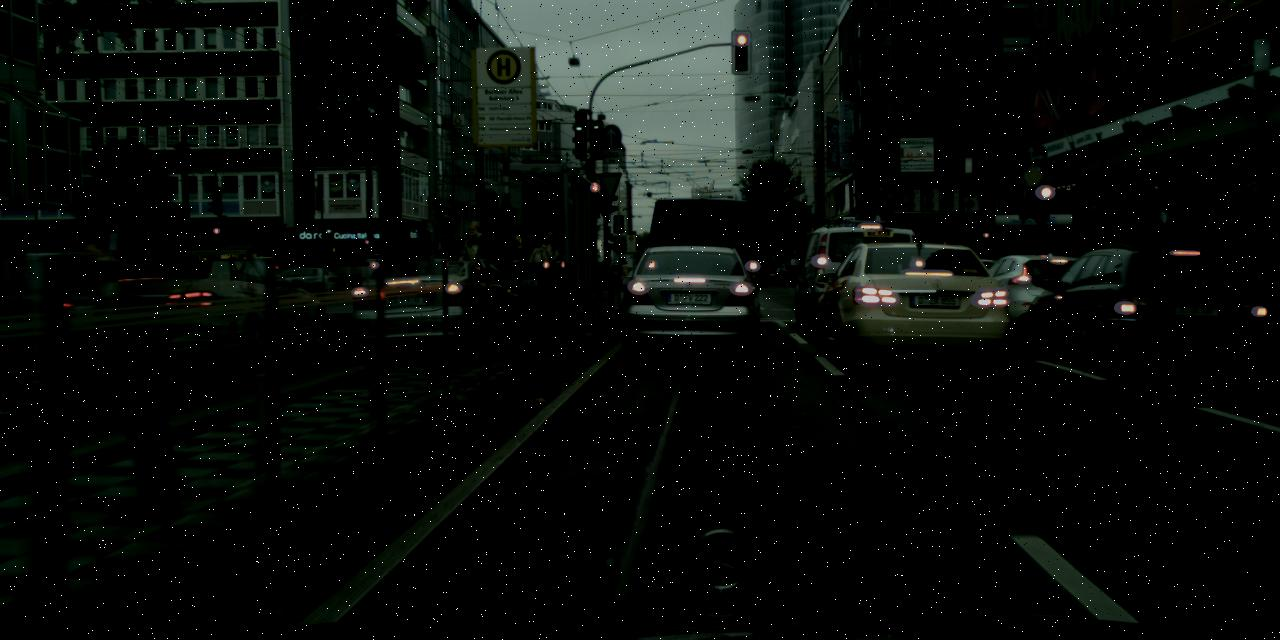ped: (64, 142, 213, 506), (463, 188, 531, 356), (451, 221, 499, 337), (526, 230, 567, 330), (759, 261, 770, 286)
